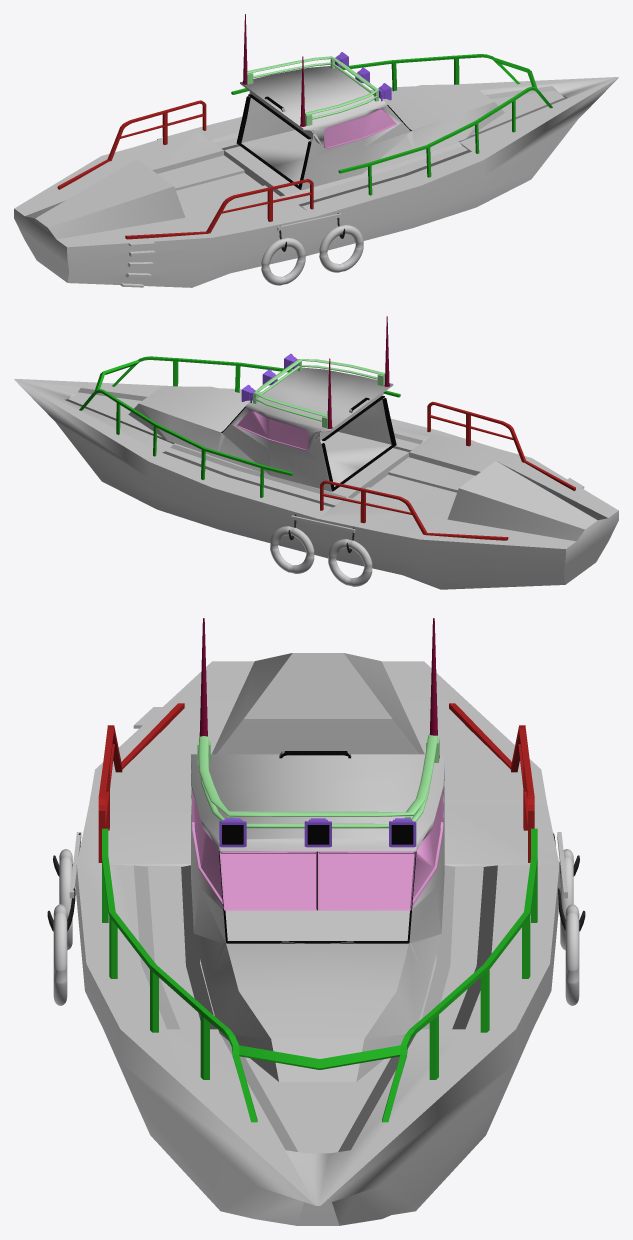
Rendered from uploads_files_642183_boat.obj.
The picture shows the model from 3 angles, top to bottom: view 1: azimuth 30°, elevation 25°; view 2: azimuth 150°, elevation 25°; view 3: azimuth 270°, elevation 25°; orthographic projection. The views are drawn at different scales.
Parts seen in each view (by area): view 1: Than, Khoang_lai_0, Khoang_lai_001, Lan_cang_tang_duoi_2, Lan_cang_tang_duoi_1, Lan_cang_tang_tren, Torus004, Torus003, anten; view 2: Than, Khoang_lai_001, Khoang_lai_0, Lan_cang_tang_duoi_2, Lan_cang_tang_duoi_1, Lan_cang_tang_tren, Torus002, Torus001, anten; view 3: Than, Khoang_lai_001, Khoang_lai_0, Lan_cang_tang_duoi_2, Lan_cang_tang_duoi_1, Lan_cang_tang_tren, Torus002, Torus003, anten, Torus004, Box001, Box002 (+1 smaller).
Boxes of the visible parts, bbox=[...] form: Than: bbox=[14, 77, 618, 287]; Khoang_lai_0: bbox=[268, 84, 504, 189]; Khoang_lai_001: bbox=[236, 66, 482, 166]; Lan_cang_tang_duoi_2: bbox=[231, 54, 552, 195]; Lan_cang_tang_duoi_1: bbox=[57, 100, 313, 239]; Lan_cang_tang_tren: bbox=[247, 56, 378, 125]; Torus004: bbox=[261, 237, 305, 285]; Torus003: bbox=[319, 225, 363, 272]; anten: bbox=[242, 14, 305, 126]; Than: bbox=[14, 379, 618, 589]; Khoang_lai_001: bbox=[128, 386, 364, 491]; Khoang_lai_0: bbox=[151, 367, 396, 467]; Lan_cang_tang_duoi_2: bbox=[79, 356, 400, 497]; Lan_cang_tang_duoi_1: bbox=[320, 401, 575, 540]; Lan_cang_tang_tren: bbox=[253, 359, 385, 428]; Torus002: bbox=[270, 526, 314, 573]; Torus001: bbox=[328, 539, 372, 586]; anten: bbox=[327, 316, 390, 428]; Than: bbox=[75, 653, 560, 1225]; Khoang_lai_001: bbox=[317, 754, 444, 1081]; Khoang_lai_0: bbox=[191, 754, 317, 1081]; Lan_cang_tang_duoi_2: bbox=[102, 828, 537, 1122]; Lan_cang_tang_duoi_1: bbox=[98, 703, 534, 862]; Lan_cang_tang_tren: bbox=[197, 735, 439, 828]; Torus002: bbox=[565, 904, 579, 1005]; Torus003: bbox=[53, 904, 67, 1005]; anten: bbox=[199, 618, 439, 757]; Torus004: bbox=[59, 849, 72, 950]; Box001: bbox=[219, 818, 246, 847]; Box002: bbox=[304, 818, 331, 847].
Bounding box in the file's own units: 206 × 69.66 × 82.94.
